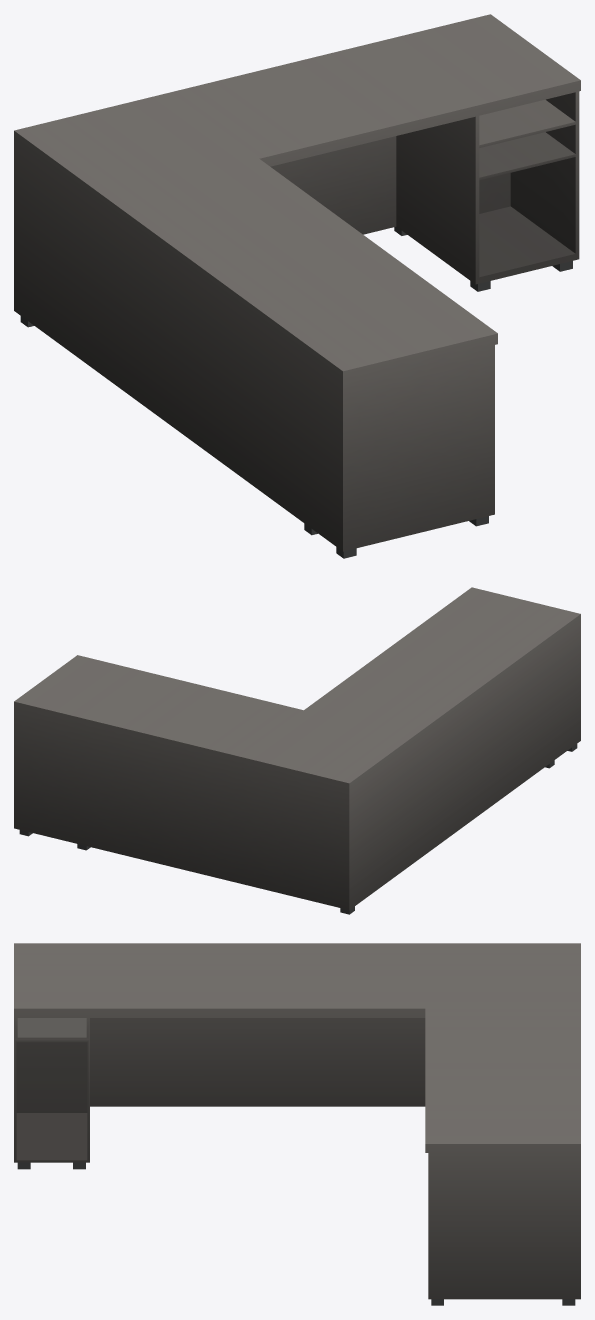
Rendered from Desk_Corner_Booth_A_Open_Gray.fbx.
3 views of the same model, one above another, from view 1: azimuth 30°, elevation 25°; view 2: azimuth 150°, elevation 25°; view 3: azimuth 270°, elevation 25° (orthographic). The views are drawn at different scales.
Parts seen in each view (by area): view 1: Desk_Corner_Booth_A_Open_Gray; view 2: Desk_Corner_Booth_A_Open_Gray; view 3: Desk_Corner_Booth_A_Open_Gray.
Part boxes in pixels (x1,y1,x2,y2): Desk_Corner_Booth_A_Open_Gray: (14,14,580,558); Desk_Corner_Booth_A_Open_Gray: (14,587,580,914); Desk_Corner_Booth_A_Open_Gray: (14,943,580,1305).
Size of the model in its own units: 184 by 70 by 220.
